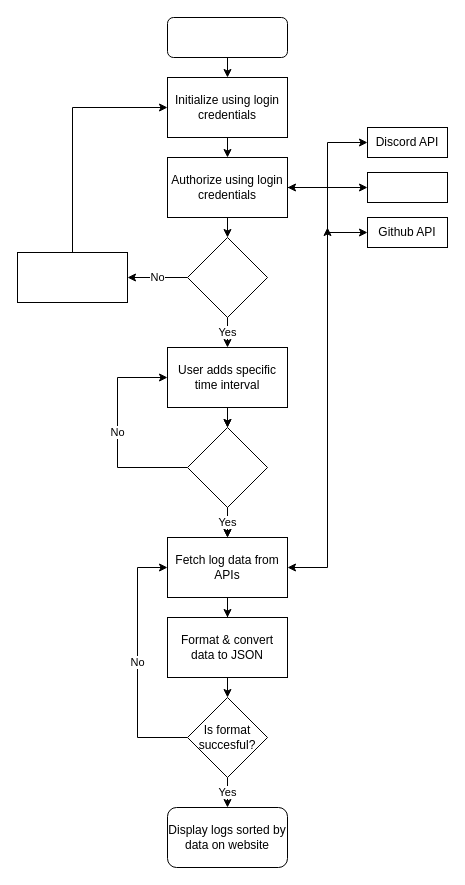
Some shapes in this 465 by 885 pixel diagram are drawn without their labels. The centre of each missing label's shape, as x and y in pixels:
Display error message: "Login Failed - Try Again": (72,277)
Is input valid?: (227,467)
Is login succesful?: (227,277)
Load webpage: (227,37)
Trello API: (407,187)
